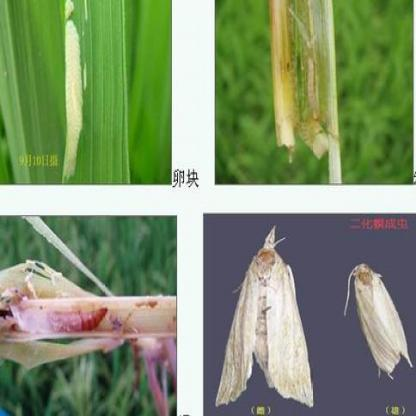stem-borer: (214, 224, 315, 404), (343, 262, 414, 386)
